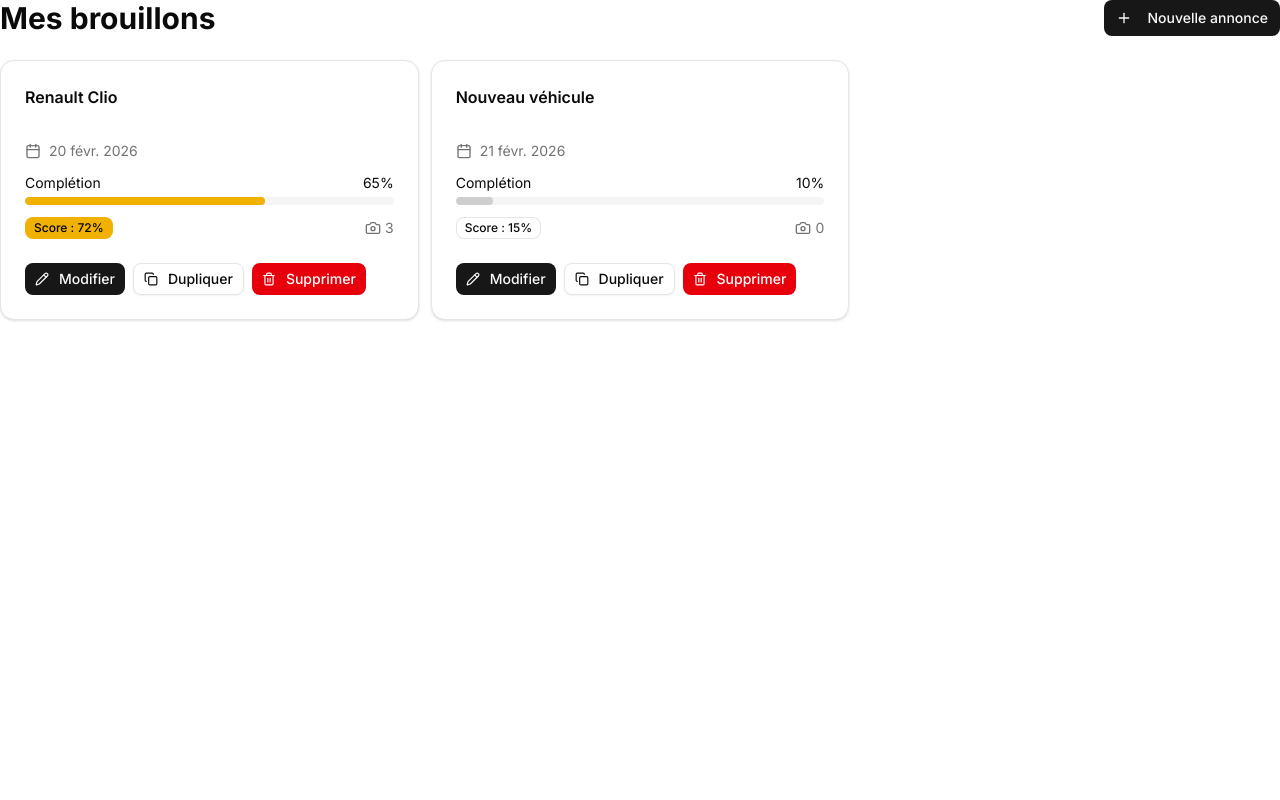
Test case: DraftsPage › should show confirmation dialog when Supprimer is clicked
Click the button with test id "draft-delete-btn". click: point(309, 279)
box: [252, 263, 366, 295]
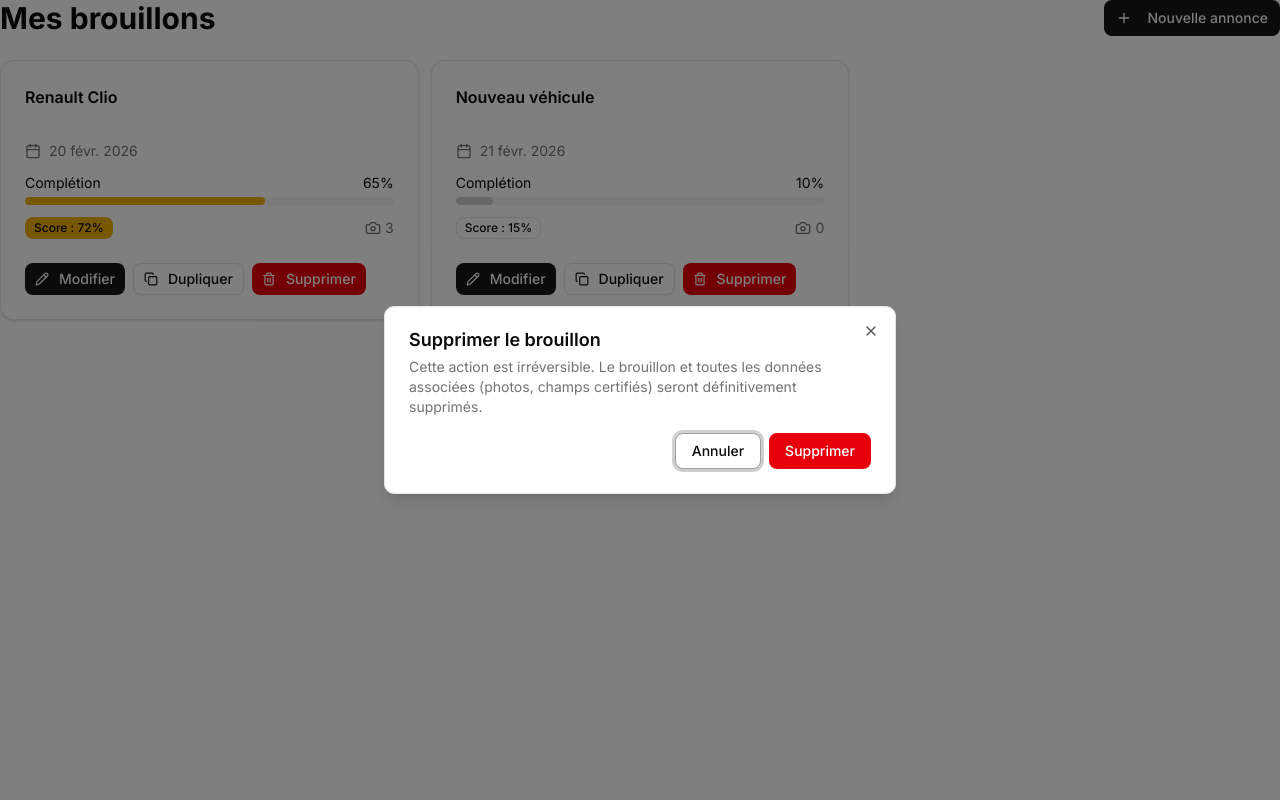
Now the dialog with test id "delete-draft-dialog" is shown, box [384, 306, 896, 494]
